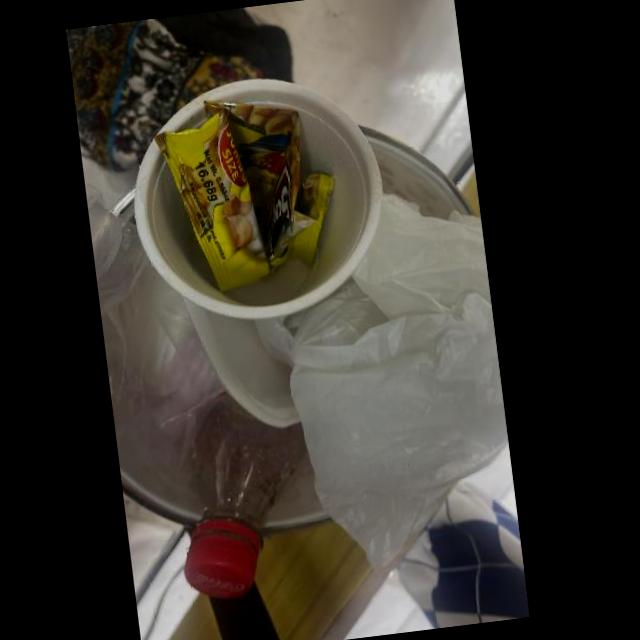bao_bi_thuc_pham: (153, 100, 332, 291)
chai_nhua_pet: (182, 391, 307, 597)
hop_nhua: (133, 77, 382, 320)
tui_ni_long: (254, 193, 507, 572), (87, 181, 226, 501)
